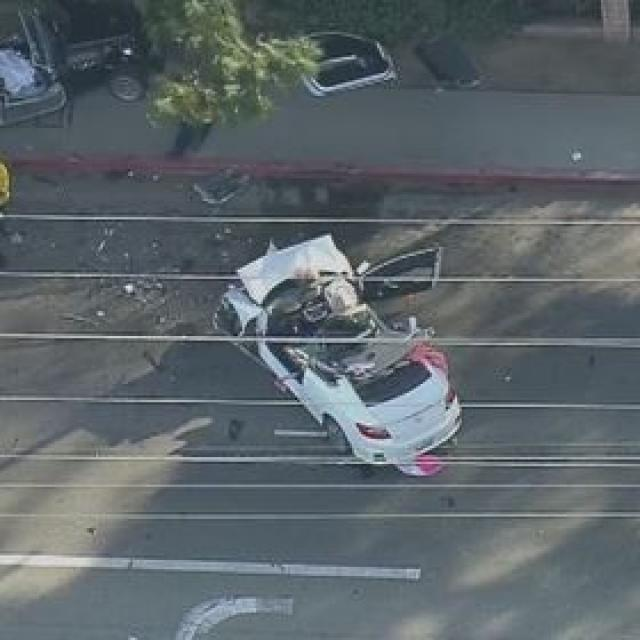traffic_incident: (192, 249, 498, 476)
